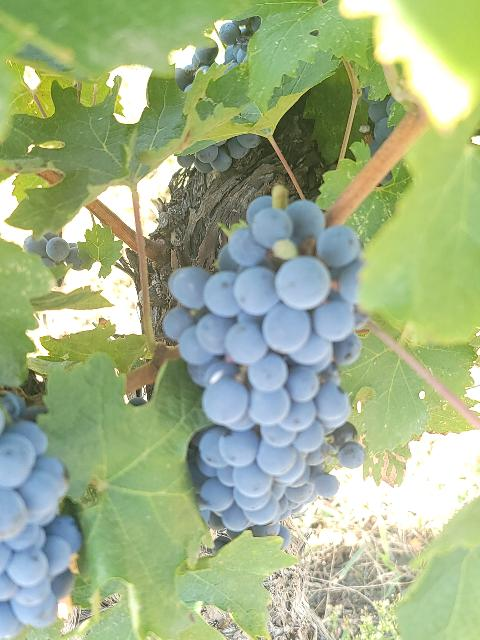grapes: (162, 190, 368, 546), (0, 392, 82, 640)
